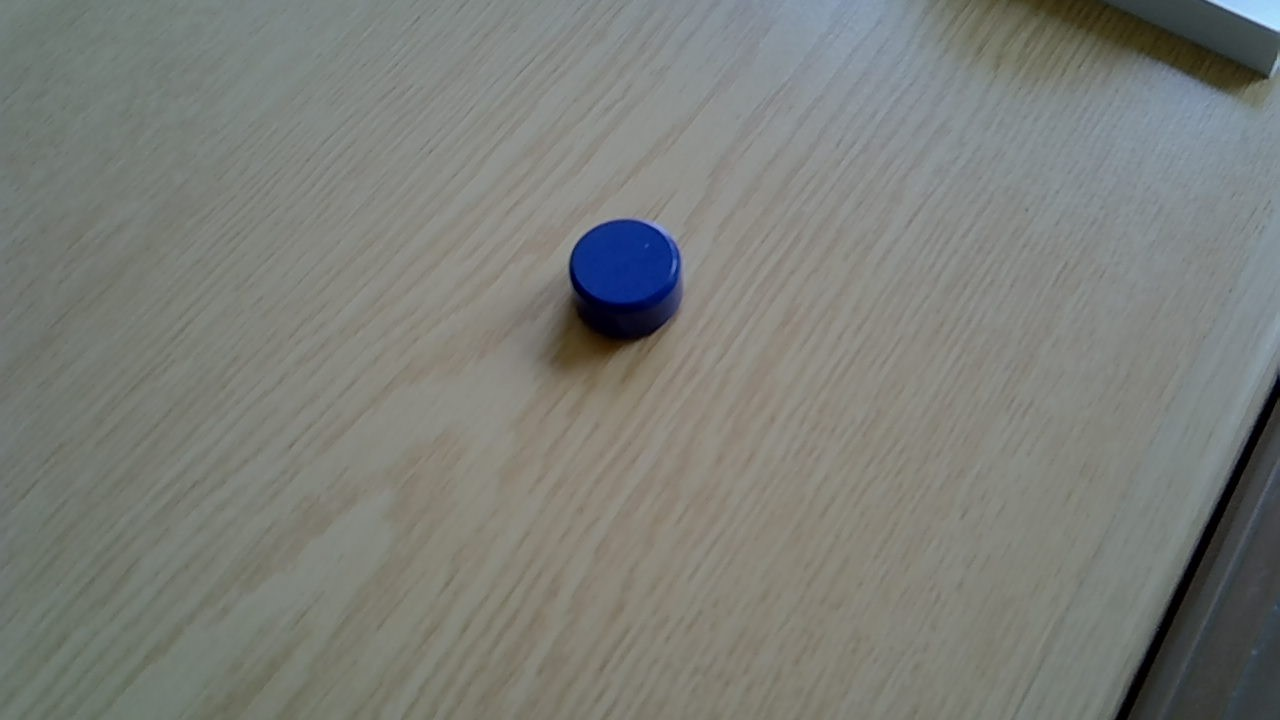WerkStueck: (569, 217, 684, 344)
